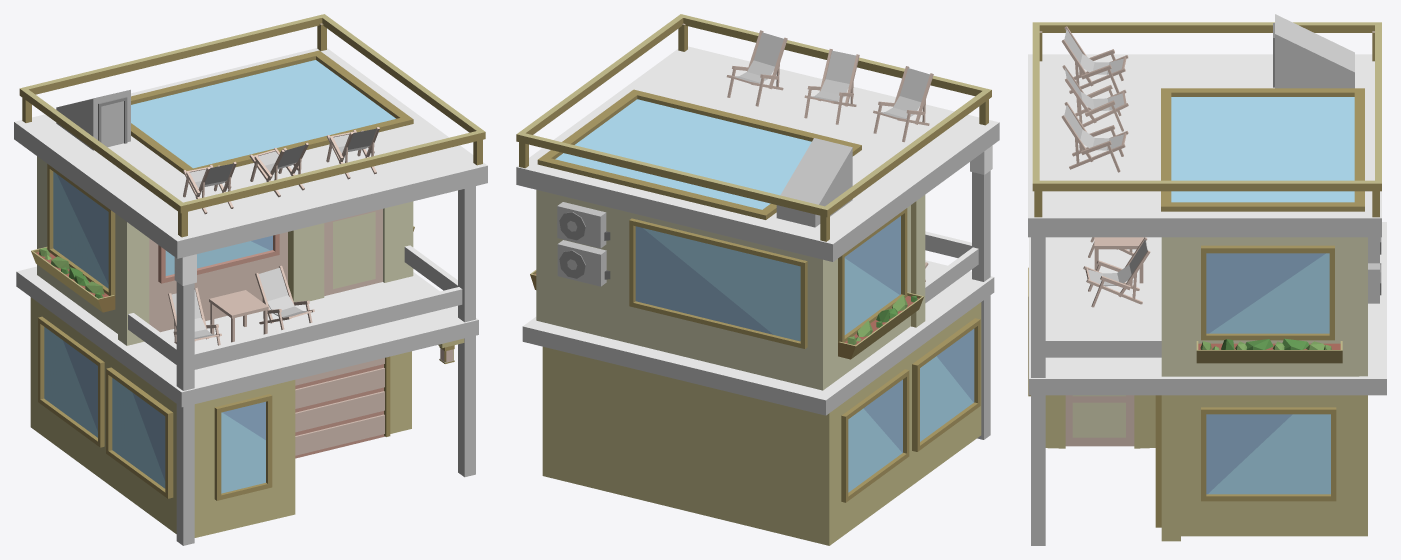
File: cottage_010.fbx
3 renders of one model, left to right at view 1: azimuth 30°, elevation 25°; view 2: azimuth 150°, elevation 25°; view 3: azimuth 270°, elevation 25°, orthographic. The views are drawn at different scales.
Parts seen in each view (by area): view 1: cottage_010; view 2: cottage_010; view 3: cottage_010.
Boxes of the visible parts, x1,y1,x2,y2 form: cottage_010: (14, 14, 487, 545); cottage_010: (516, 14, 999, 545); cottage_010: (1028, 14, 1386, 545).
Size of the model in its own units: 682 by 735 by 615.
